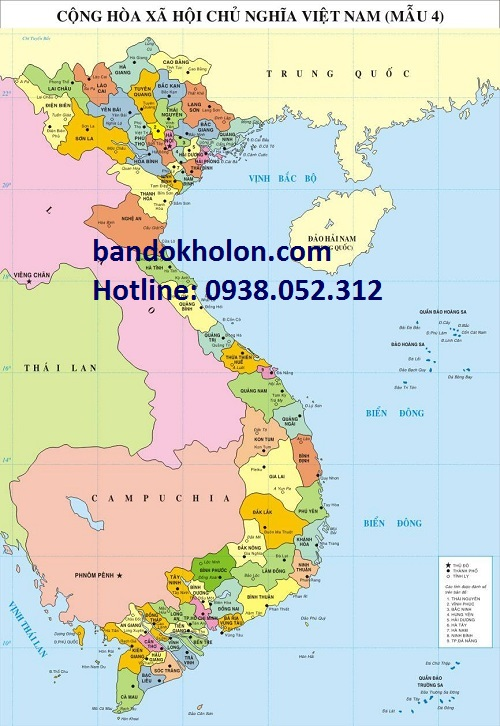Island: (387, 301, 495, 407), (372, 656, 474, 717)
